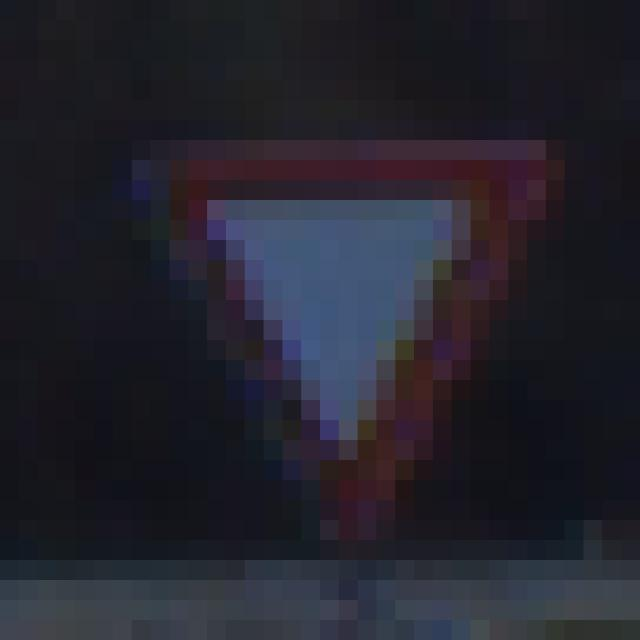Give Way: (95, 101, 547, 541)
